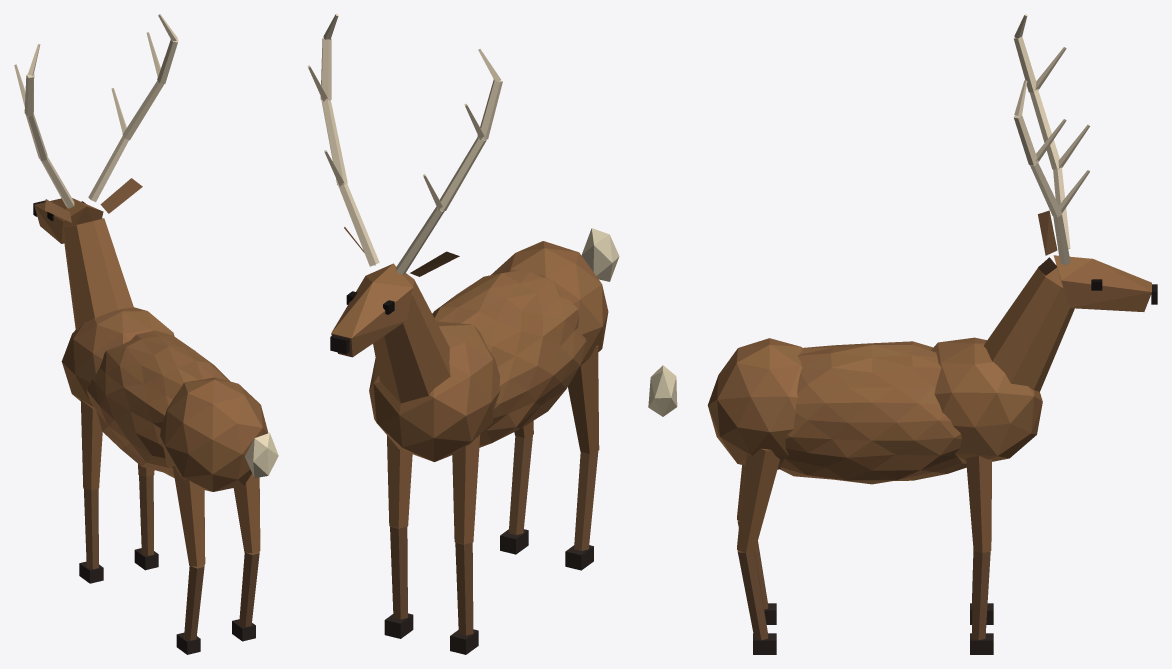
The model's file is Deer.glb.
3 renders of one model, left to right at view 1: azimuth 30°, elevation 25°; view 2: azimuth 150°, elevation 25°; view 3: azimuth 270°, elevation 25°, orthographic. The views are drawn at different scales.
Visible parts, largest first — view 1: Mat_Cloth_8e623c, Mat_Cloth_6b4b31, Mat_Cloth_c9b192; view 2: Mat_Cloth_8e623c, Mat_Cloth_6b4b31, Mat_Cloth_c9b192; view 3: Mat_Cloth_8e623c, Mat_Cloth_6b4b31, Mat_Cloth_c9b192.
Boxes of the visible parts, box(x1,y1,x2,y2) form: Mat_Cloth_8e623c: box(34, 205, 262, 566); Mat_Cloth_6b4b31: box(33, 178, 262, 654); Mat_Cloth_c9b192: box(14, 14, 278, 491); Mat_Cloth_8e623c: box(331, 241, 601, 544); Mat_Cloth_6b4b31: box(330, 227, 608, 654); Mat_Cloth_c9b192: box(307, 14, 619, 447); Mat_Cloth_8e623c: box(707, 264, 1074, 553); Mat_Cloth_6b4b31: box(717, 210, 1157, 654); Mat_Cloth_c9b192: box(648, 14, 1151, 479).
Bounding box in the file's own units: 2.47 × 8.24 × 6.46.
1 material, 1 textured.
